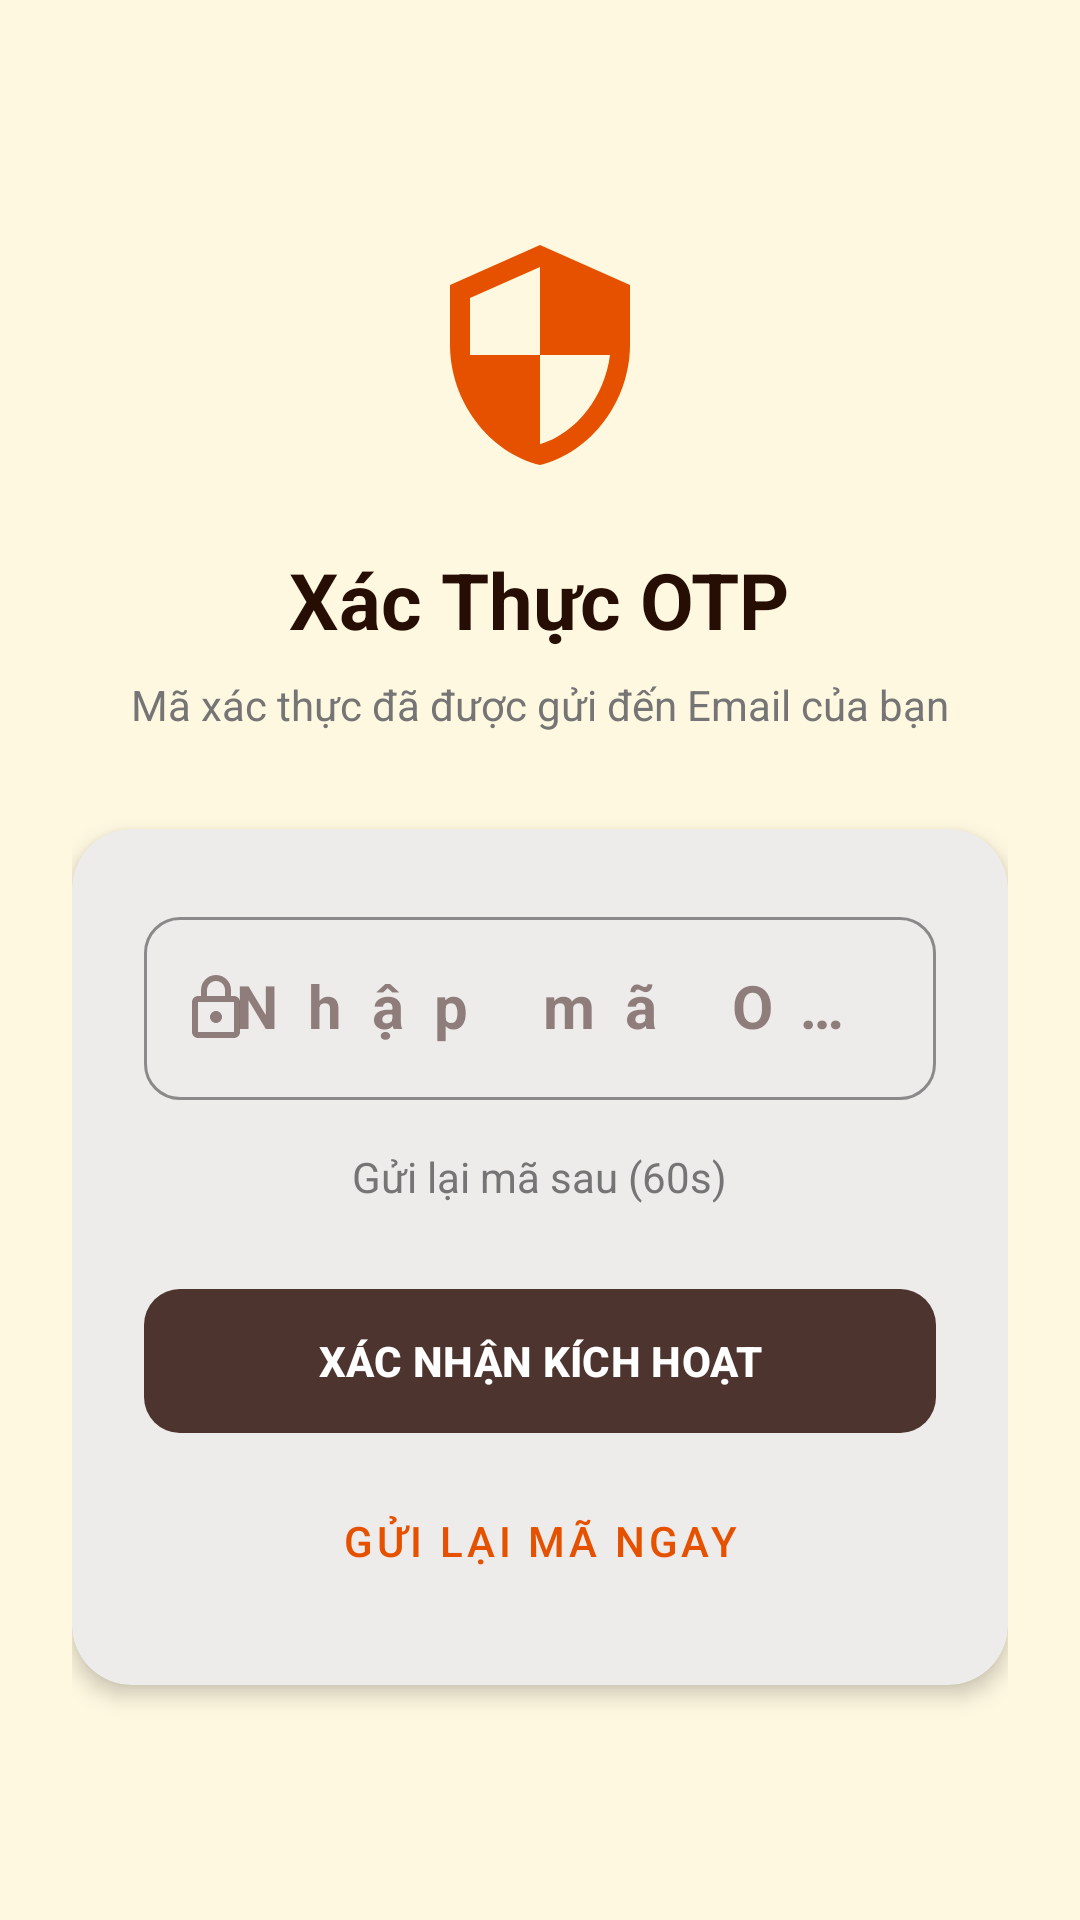

Point at icon controls on the screen. Image size 1080 × 1920, points as point (x, y).
policy: point (540, 355)
